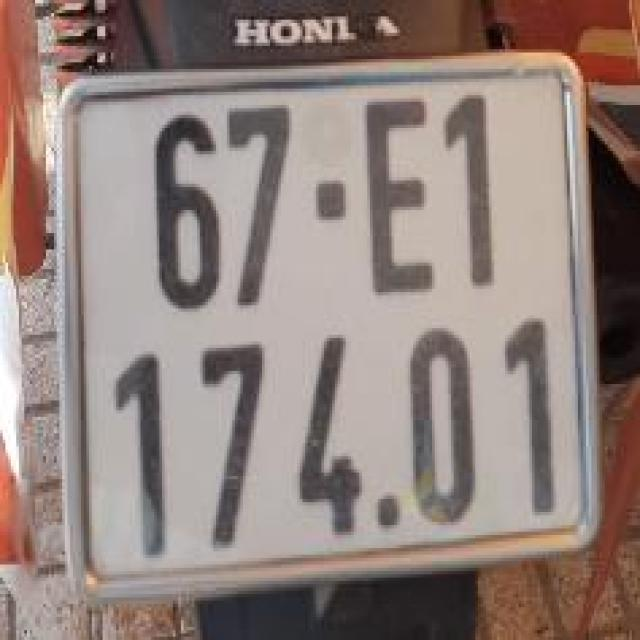0: (394, 323, 500, 550)
1: (96, 331, 174, 568), (493, 307, 574, 517), (444, 67, 504, 290)
4: (289, 318, 362, 538)
6: (137, 105, 226, 315)
7: (185, 325, 269, 568), (224, 90, 297, 310)
E: (354, 76, 440, 315)
